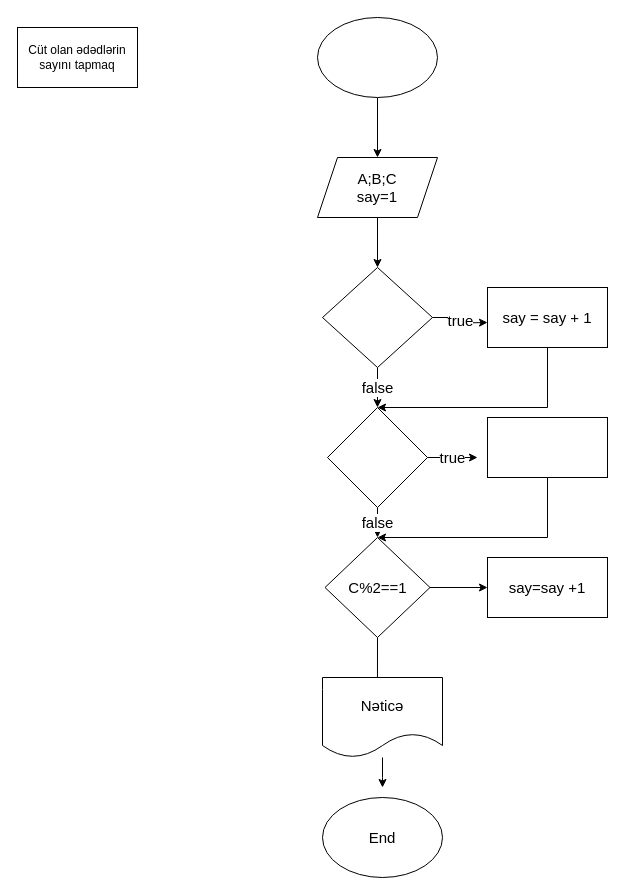
Image size: 625x895. Some labels were removed from this diagram. Here are the shapes that lost their labels. From the top down, the centre of each, then its label:
the point at 377,57: Start
the point at 377,317: A%2==1
the point at 377,457: B%2==1
the point at 547,447: say = say +1
